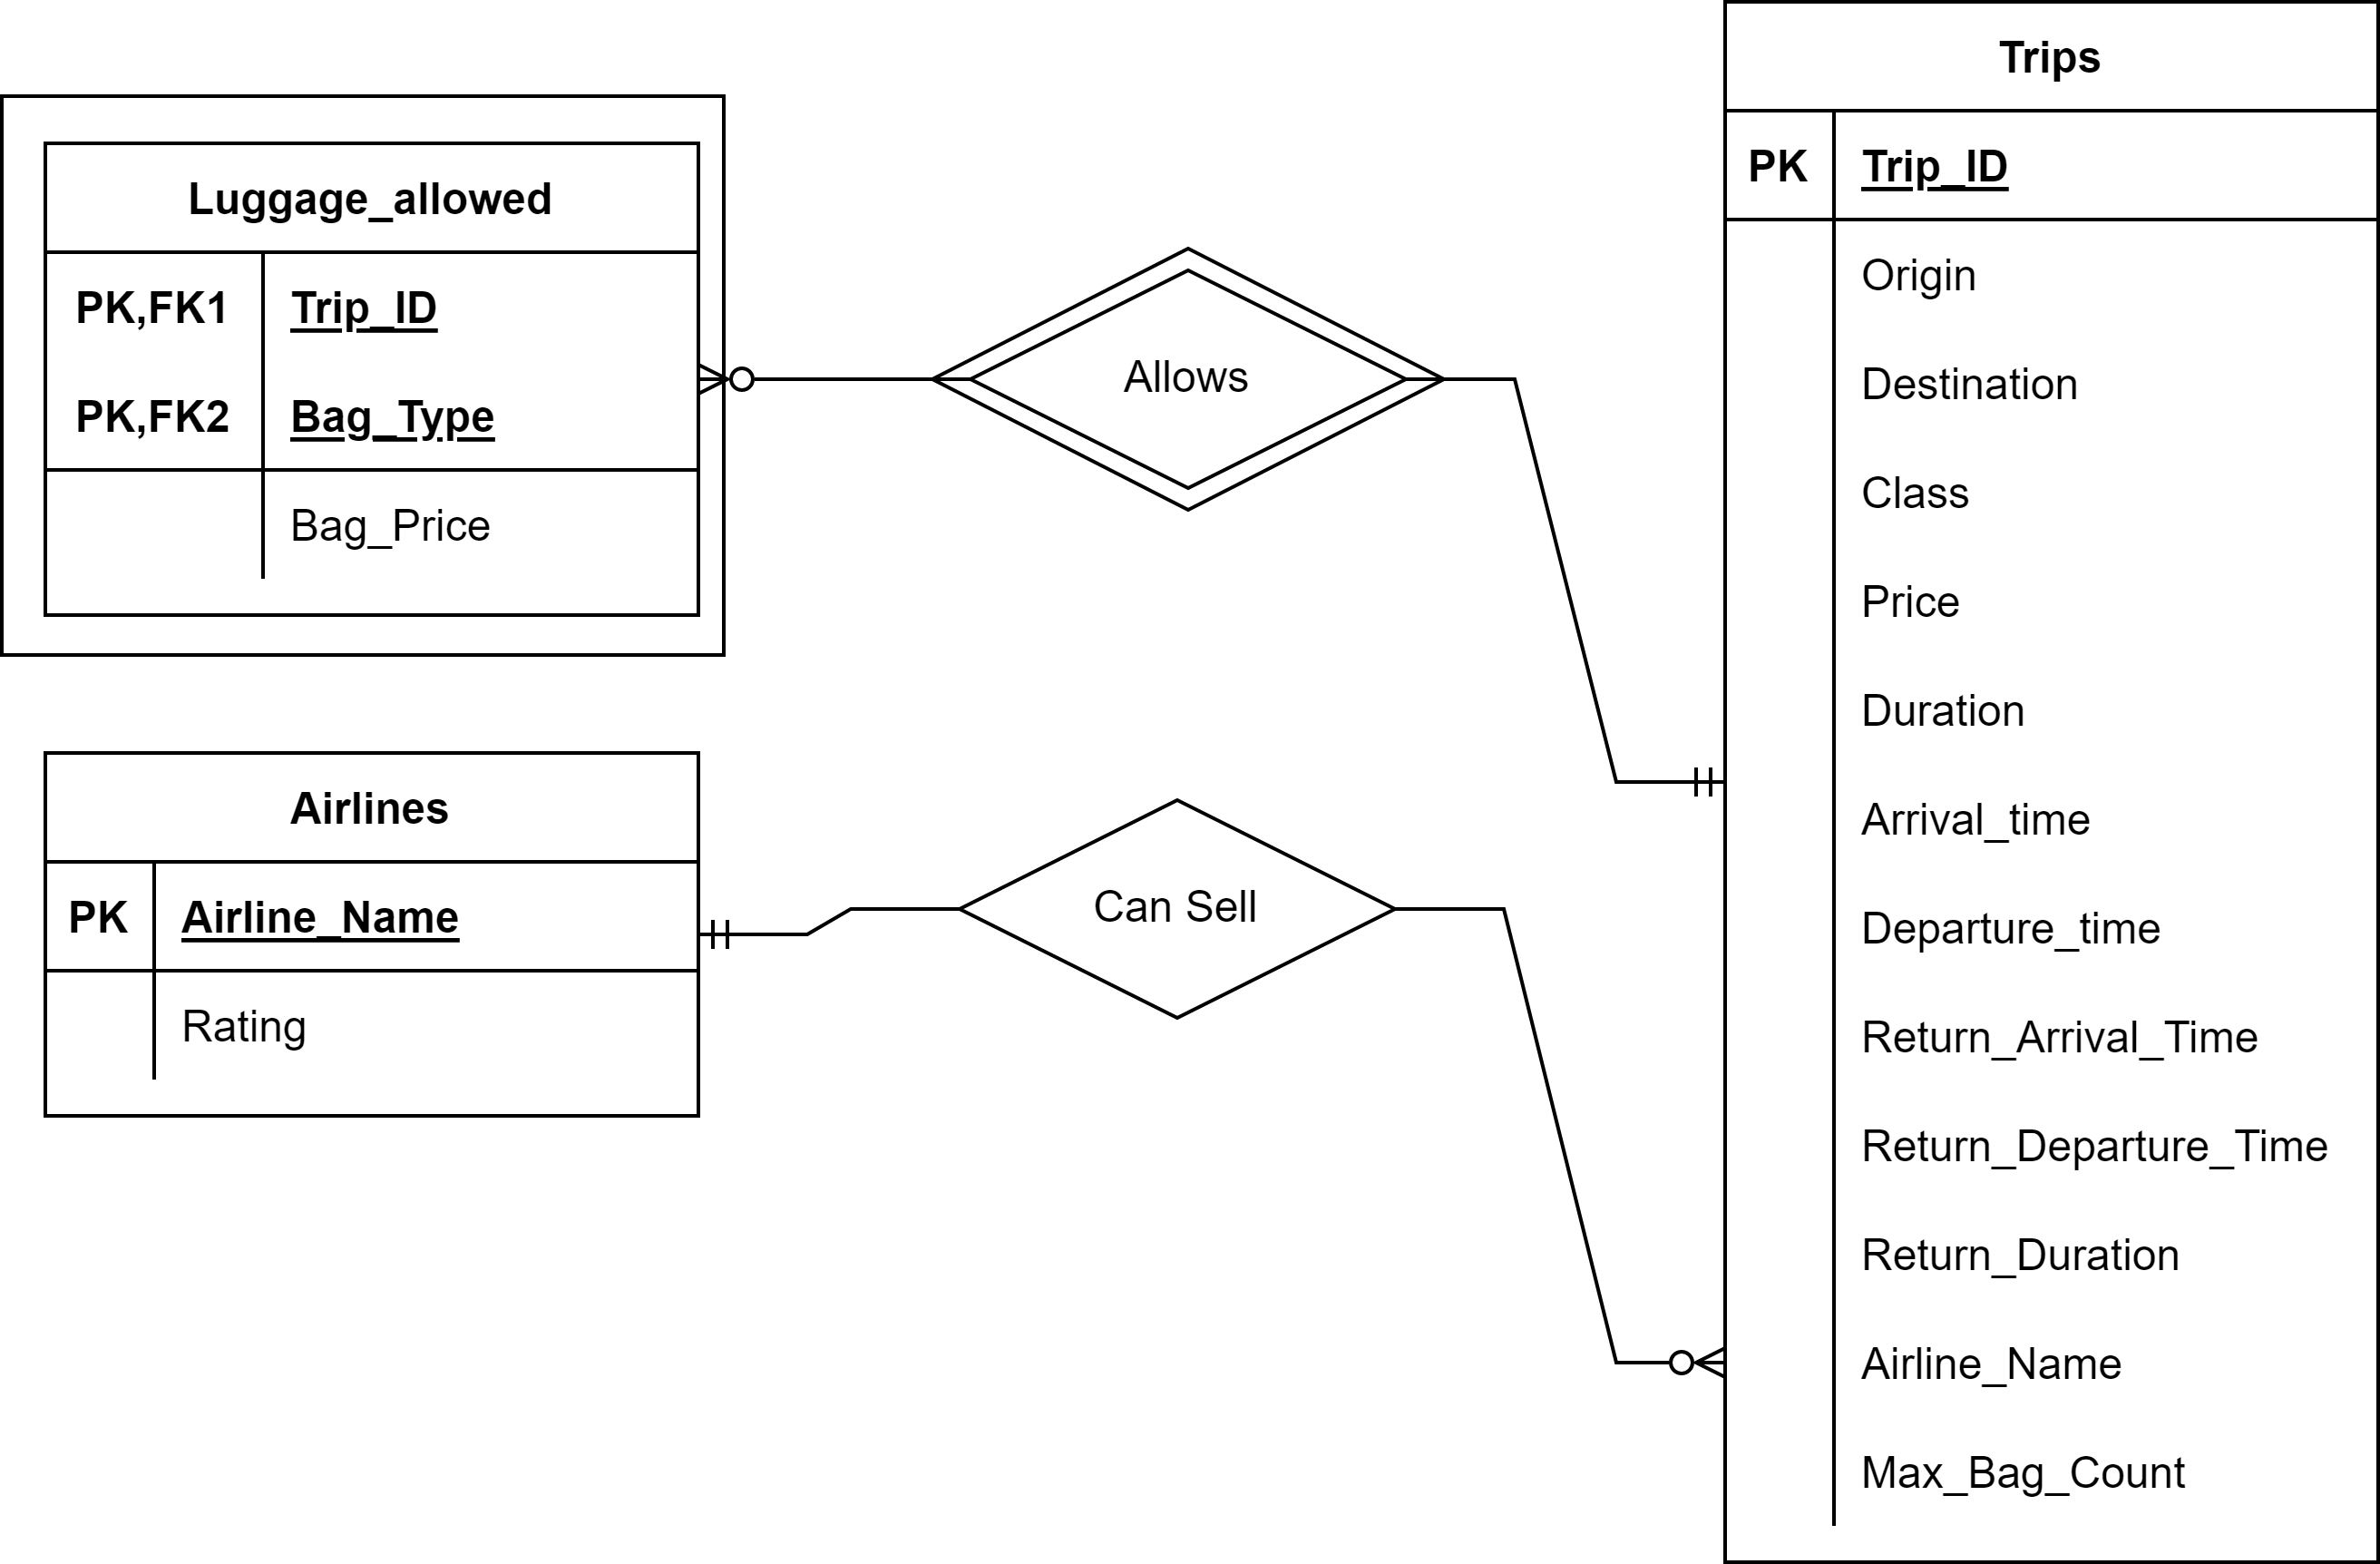entity: (1726, 5, 2378, 1562), (42, 751, 698, 1112)
ident_rel: (928, 246, 1446, 515)
many: (700, 360, 801, 407), (1614, 1341, 1727, 1382)
one: (1617, 765, 1727, 805), (698, 918, 810, 950)
rel: (958, 801, 1396, 1021)
weak_entity: (3, 94, 724, 656)
